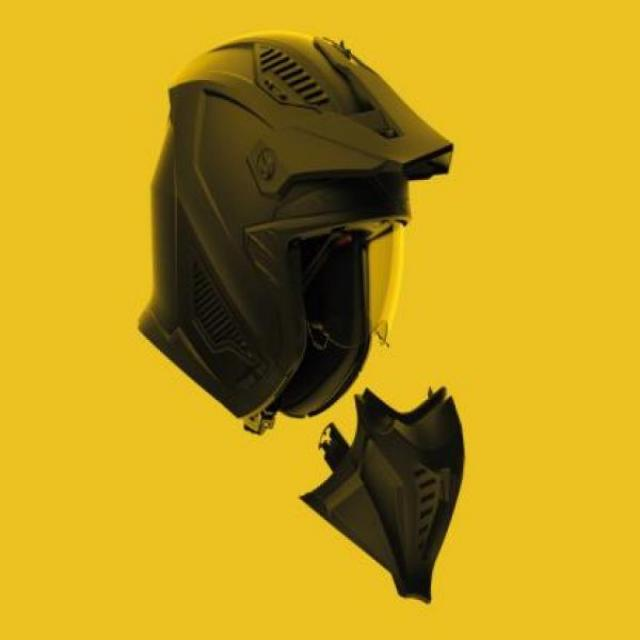Helmet: (152, 32, 440, 416)
